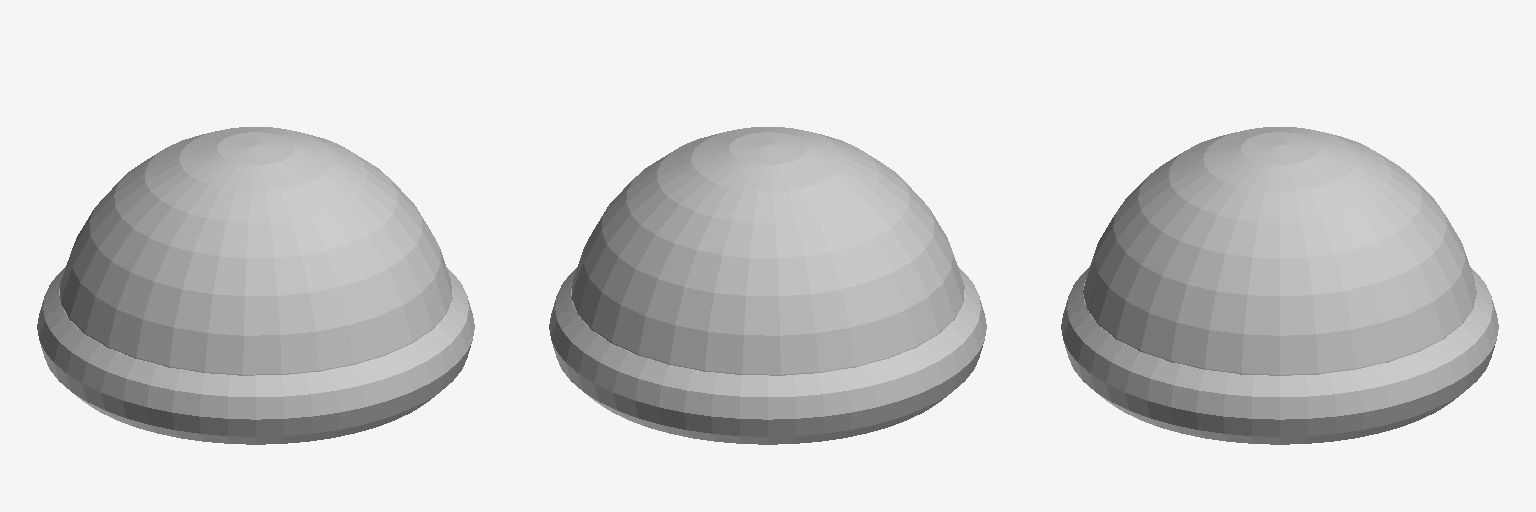
Rendered from head.obj.
3 renders of one model, left to right at view 1: azimuth 30°, elevation 25°; view 2: azimuth 150°, elevation 25°; view 3: azimuth 270°, elevation 25°, orthographic.
Parts seen in each view (by area): view 1: Sphere, Torus; view 2: Sphere, Torus; view 3: Sphere, Torus.
Part boxes in pixels (bbox=[...]): Sphere: bbox=[59, 127, 452, 375]; Torus: bbox=[37, 267, 474, 444]; Sphere: bbox=[571, 127, 964, 375]; Torus: bbox=[549, 267, 986, 444]; Sphere: bbox=[1083, 127, 1476, 375]; Torus: bbox=[1061, 267, 1498, 444].
Size of the model in its own units: 2.18 by 1.22 by 2.18.